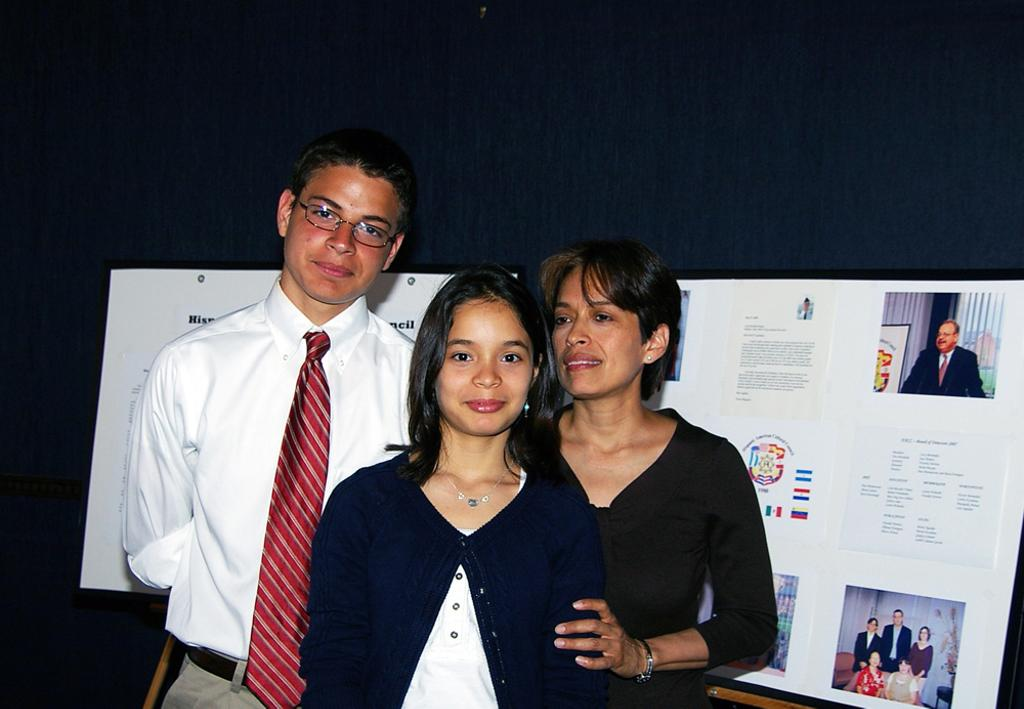face: (283, 177, 402, 305), (431, 305, 532, 436), (552, 272, 642, 395), (936, 325, 953, 348), (899, 662, 907, 673), (894, 612, 901, 624), (871, 654, 878, 666), (869, 620, 875, 631), (921, 630, 927, 640), (803, 303, 807, 309)
